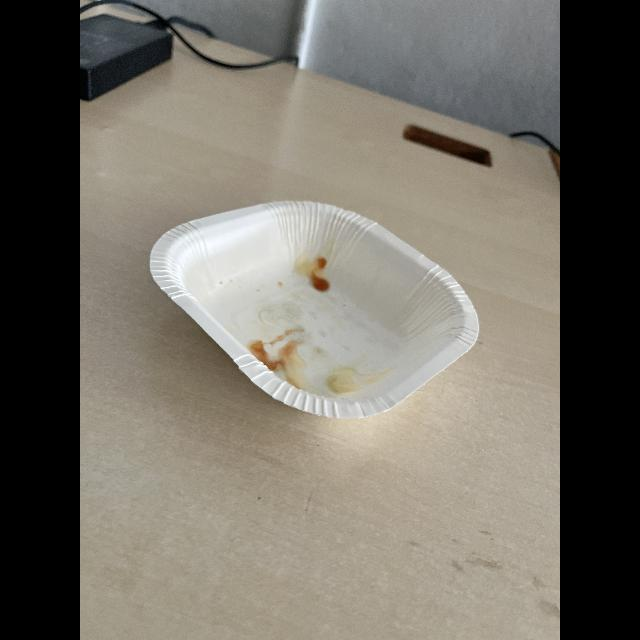cardboard_bowl: (146, 191, 487, 419)
